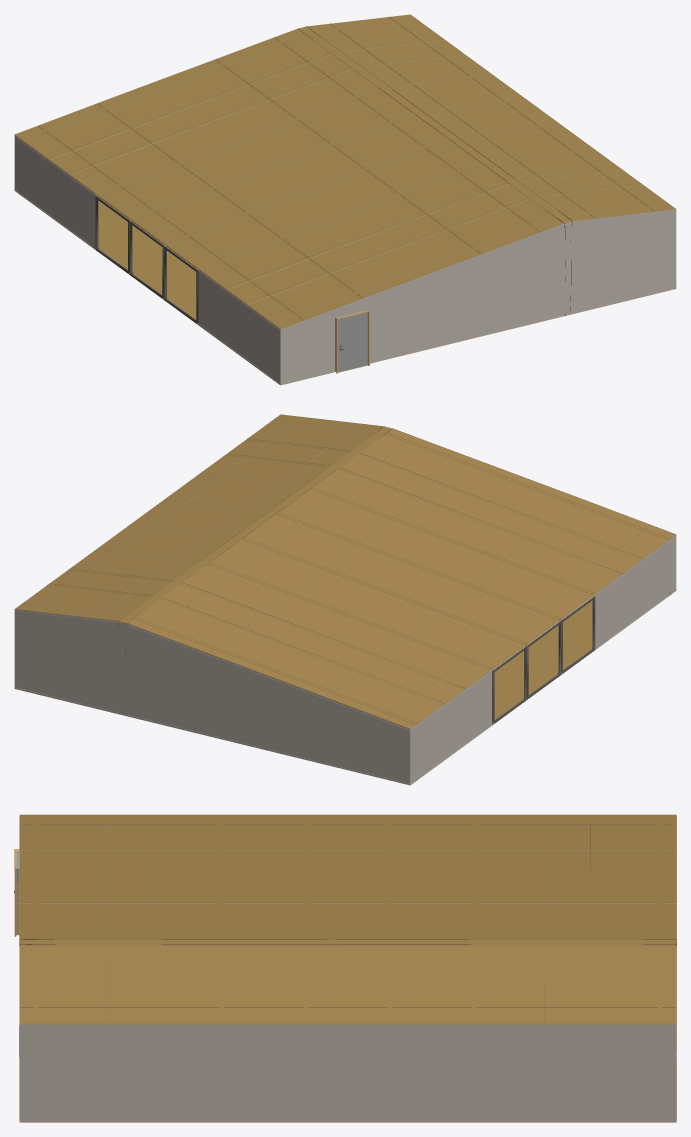
Rendered from toimisto_huone_skaalaus_testi.fbx.
3 views of the same model, one above another, from view 1: azimuth 30°, elevation 25°; view 2: azimuth 150°, elevation 25°; view 3: azimuth 270°, elevation 25° (orthographic). The views are drawn at different scales.
Visible parts, largest first — view 1: katto_toimisto_01, seina_toimisto_01, lattia_toimisto_01, kattotolppat_01, kattotolppa_pitka_01, kattotolppa_puu_01, ovi_01, ikkunat_01, kattolista_toimisto_01; view 2: katto_toimisto_01, seina_toimisto_01, lattia_toimisto_01, kattotolppat_01, kattotolppa_pitka_01, kattotolppa_puu_01, ikkunat_01, kattolista_toimisto_01; view 3: katto_toimisto_01, seina_toimisto_01, kattotolppa_pitka_01, kattolista_toimisto_02, kattolista_toimisto_01, lattialista_toimisto_01, puurunko_01.
Boxes of the visible parts, x1,y1,x2,y2 form: katto_toimisto_01: [14, 14, 675, 329]; seina_toimisto_01: [14, 135, 676, 385]; lattia_toimisto_01: [97, 200, 335, 371]; kattotolppat_01: [20, 19, 669, 324]; kattotolppa_pitka_01: [38, 17, 654, 320]; kattotolppa_puu_01: [48, 38, 643, 304]; ovi_01: [338, 312, 367, 372]; ikkunat_01: [95, 197, 197, 323]; kattolista_toimisto_01: [14, 28, 563, 330]; katto_toimisto_01: [15, 414, 676, 729]; seina_toimisto_01: [14, 535, 676, 785]; lattia_toimisto_01: [492, 600, 593, 725]; kattotolppat_01: [21, 419, 670, 724]; kattotolppa_pitka_01: [35, 417, 652, 720]; kattotolppa_puu_01: [47, 438, 642, 704]; ikkunat_01: [493, 597, 595, 723]; kattolista_toimisto_01: [127, 428, 676, 730]; katto_toimisto_01: [19, 814, 676, 1024]; seina_toimisto_01: [19, 1024, 676, 1122]; kattotolppa_pitka_01: [19, 824, 676, 1008]; kattolista_toimisto_02: [19, 945, 676, 1025]; kattolista_toimisto_01: [19, 816, 676, 939]; lattialista_toimisto_01: [19, 1026, 676, 1122]; puurunko_01: [19, 939, 676, 1056].
Bounding box in the file's own units: 1716 × 386 × 2007.
